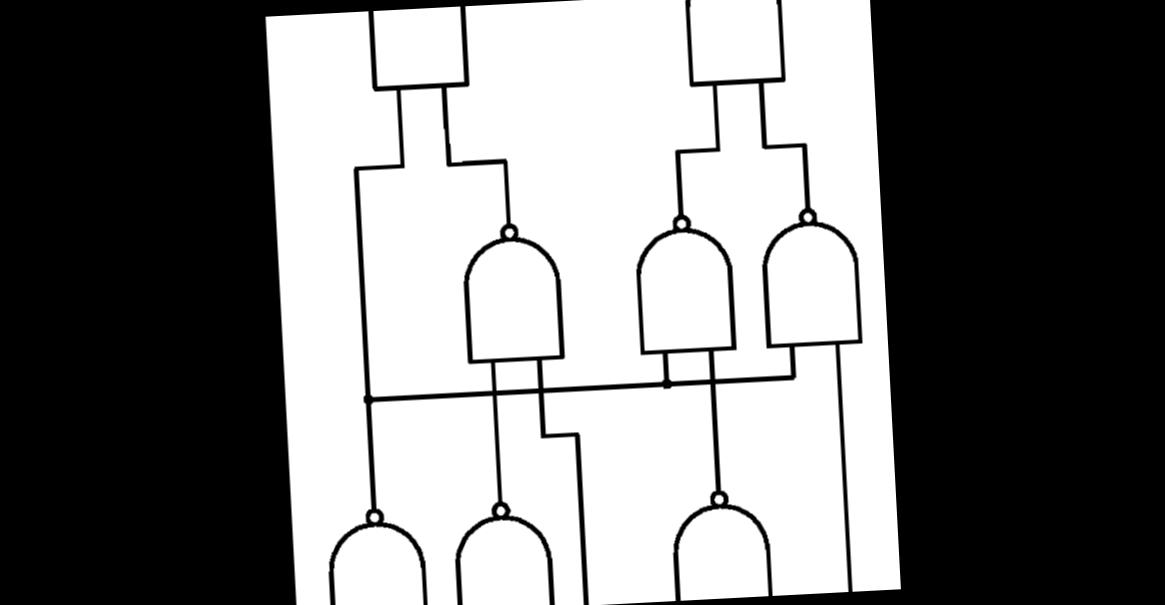nand: (442, 198, 578, 379), (748, 180, 872, 368), (621, 194, 747, 370), (348, 4, 491, 120), (654, 474, 780, 602), (435, 483, 561, 605), (311, 492, 438, 605), (670, 0, 801, 109)
